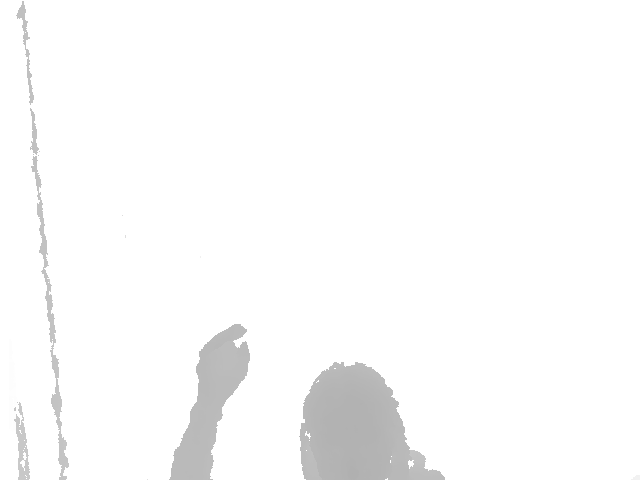hand: (195, 323, 251, 404)
head: (299, 362, 410, 480)
person: (168, 323, 447, 480)
